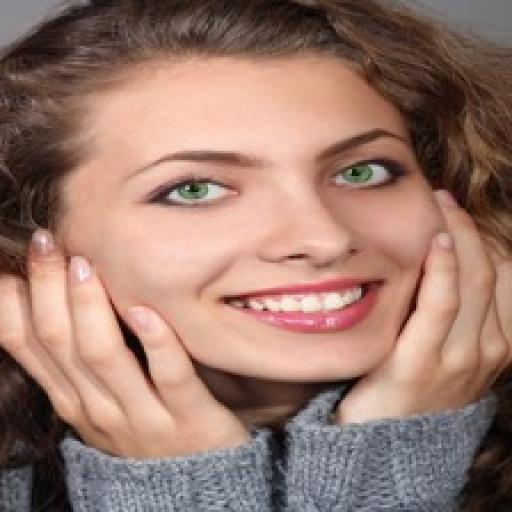human: (3, 1, 511, 512)
